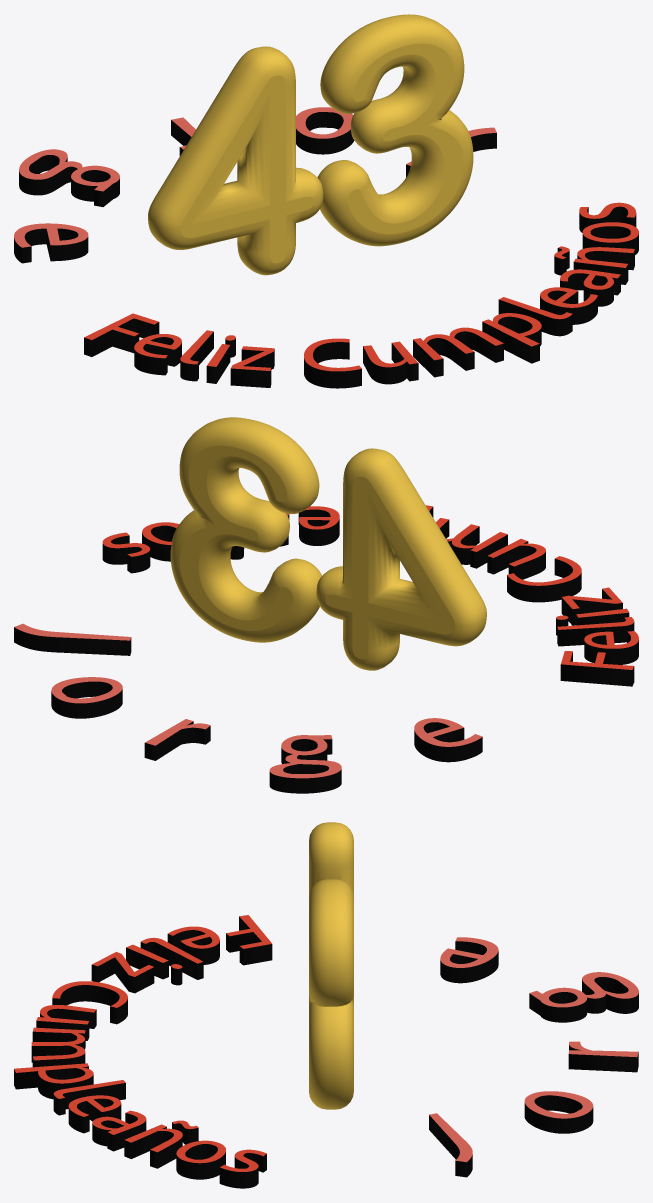
File: Feliz43Cumpleaños.glb
3 views of the same model, one above another, from view 1: azimuth 30°, elevation 25°; view 2: azimuth 150°, elevation 25°; view 3: azimuth 270°, elevation 25° (orthographic). The views are drawn at different scales.
Visible parts, largest first — view 1: Text.001, Text.002, Text.003; view 2: Text.001, Text.002, Text.003; view 3: Text.002, Text.001, Text.003.
Boxes of the visible parts, x1,y1,x2,y2 form: Text.001: [148, 14, 473, 275]; Text.002: [84, 202, 638, 388]; Text.003: [14, 107, 496, 263]; Text.001: [170, 417, 486, 670]; Text.002: [102, 505, 638, 686]; Text.003: [14, 623, 482, 793]; Text.002: [14, 915, 272, 1188]; Text.001: [309, 822, 353, 1109]; Text.003: [429, 937, 638, 1177].
Size of the model in its own units: 2 by 0.7781 by 2.05.
